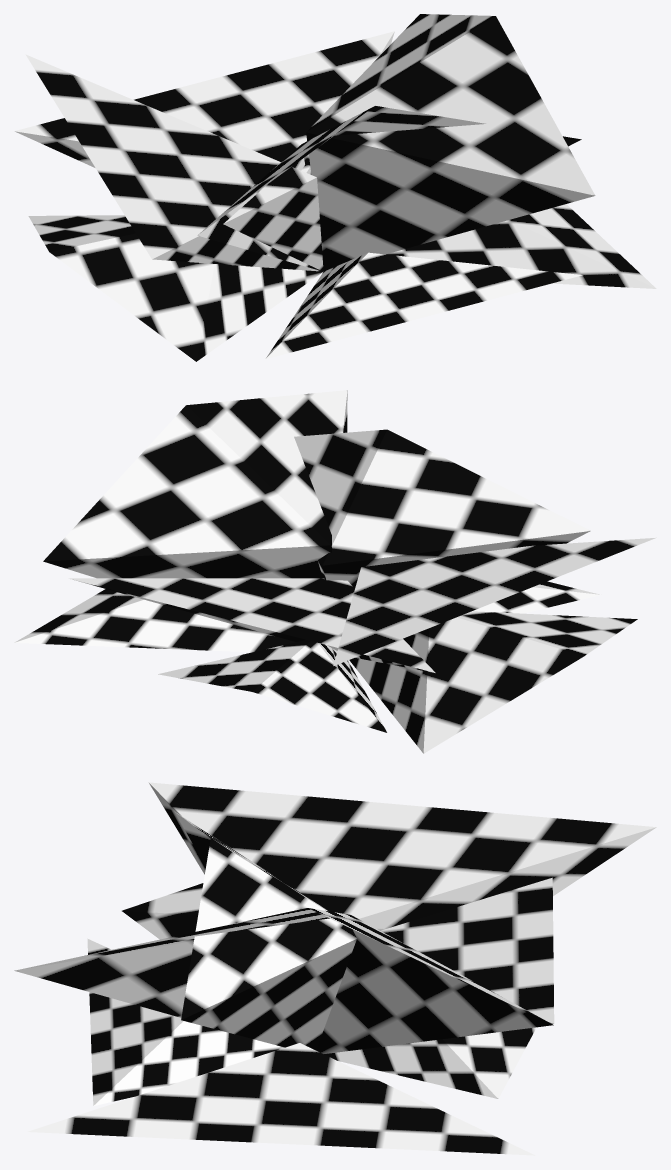
File: naflbu10.dae
3 views of the same model, one above another, from view 1: azimuth 30°, elevation 25°; view 2: azimuth 150°, elevation 25°; view 3: azimuth 270°, elevation 25° (orthographic). The views are drawn at different scales.
Parts seen in each view (by area): view 1: crown; view 2: crown; view 3: crown.
Part boxes in pixels (x1,y1,x2,y2): crown: (14,14,656,361); crown: (14,390,656,753); crown: (14,782,656,1155).
Size of the model in its own units: 1.46 by 1.46 by 0.5982.
1 material, 1 textured.
